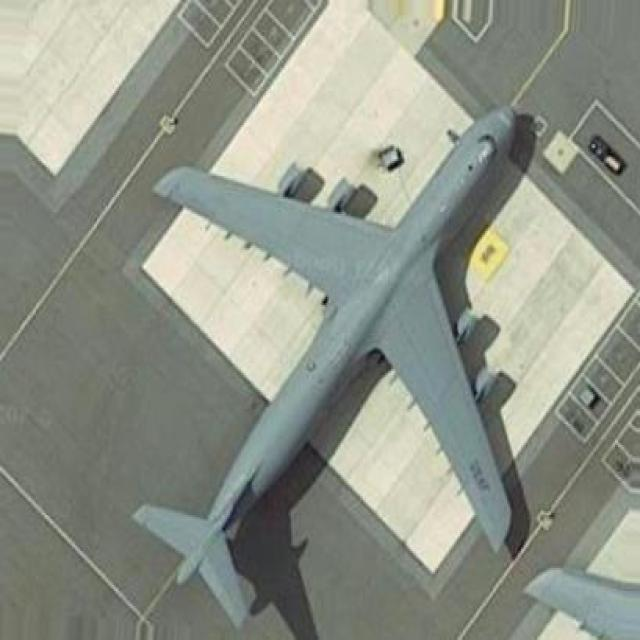C-5_TopDown: (126, 91, 544, 640)
